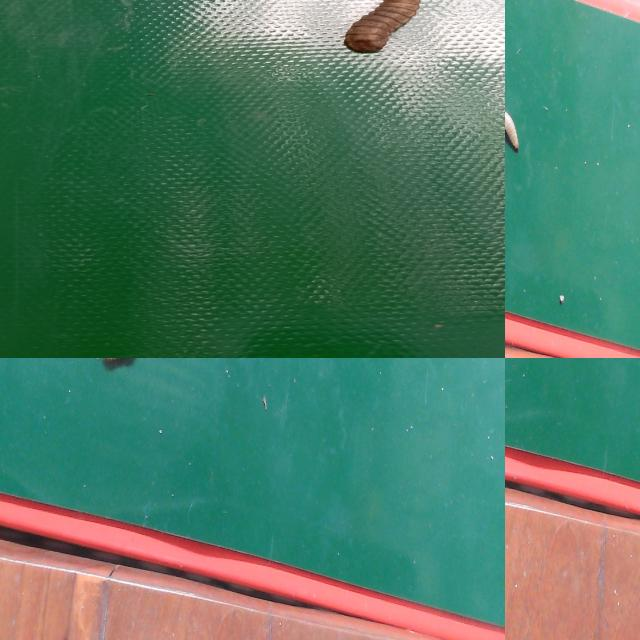Maggot: (343, 0, 421, 56), (505, 110, 522, 152), (100, 358, 136, 371)
